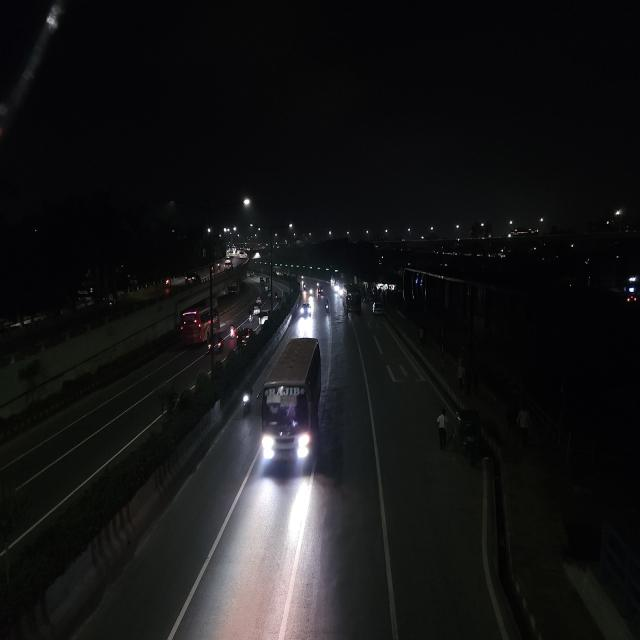bus: (260, 334, 326, 479), (178, 306, 208, 346), (345, 283, 363, 314)
car: (236, 326, 252, 348), (372, 298, 384, 318), (299, 302, 312, 320), (184, 274, 198, 287), (260, 308, 270, 324)
cng: (454, 405, 486, 470), (252, 304, 262, 315), (260, 276, 266, 286), (256, 295, 262, 304), (264, 282, 268, 293)
motorcycle: (240, 381, 255, 420), (216, 331, 225, 356), (323, 298, 332, 316), (163, 275, 173, 290), (230, 324, 237, 340)
pedestrian: (433, 407, 450, 452)
truck: (371, 298, 384, 317)
